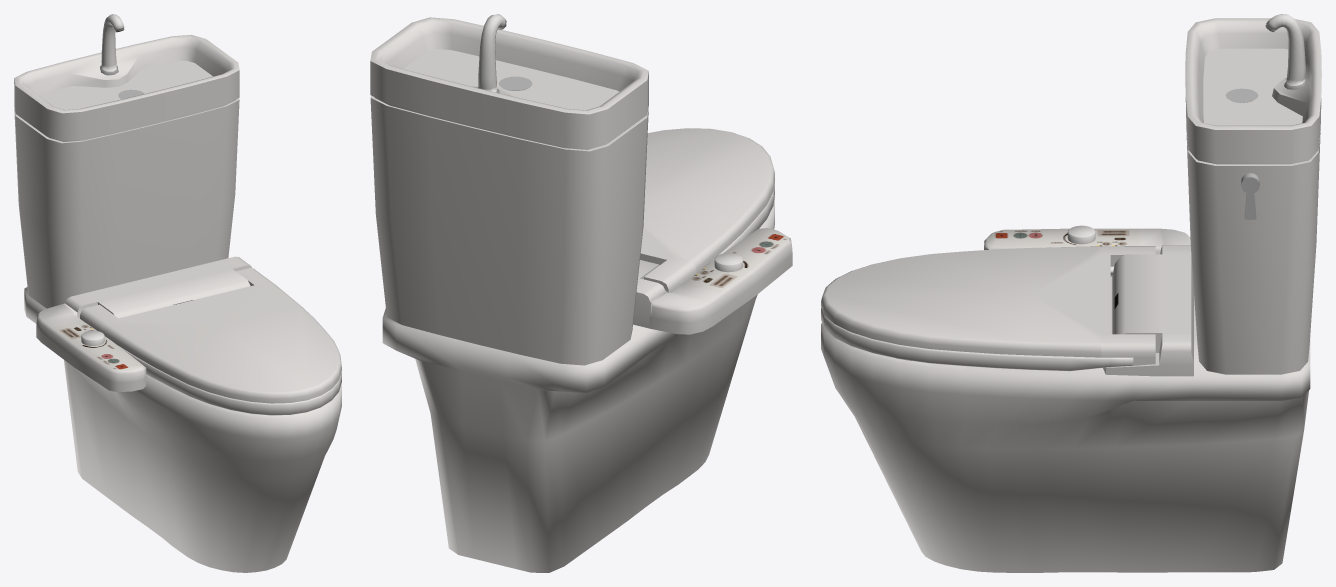
Rendered from sweethome3d-scopia-japanese-toilet-unit.glb.
The picture shows the model from 3 angles, left to right: view 1: azimuth 30°, elevation 25°; view 2: azimuth 150°, elevation 25°; view 3: azimuth 270°, elevation 25°; orthographic projection. The views are drawn at different scales.
Parts seen in each view (by area): view 1: WaterContainer, Seat, sweethome3d_opening_on_hinge_1_Cover, BaseControlCommand, ArmControlCommand, sweethome3d_opening_on_hinge_2_SeatProtection, Tap; view 2: WaterContainer, Seat, sweethome3d_opening_on_hinge_1_Cover, ArmControlCommand, Tap, BaseControlCommand, sweethome3d_opening_on_hinge_2_SeatProtection; view 3: Seat, WaterContainer, sweethome3d_opening_on_hinge_1_Cover, BaseControlCommand, sweethome3d_opening_on_hinge_2_SeatProtection, ArmControlCommand, Tap.
Boxes of the visible parts, x1,y1,x2,y2 form: WaterContainer: (14,34,239,308); Seat: (24,287,341,572); sweethome3d_opening_on_hinge_1_Cover: (80,268,341,403); BaseControlCommand: (65,256,251,318); ArmControlCommand: (36,303,146,392); sweethome3d_opening_on_hinge_2_SeatProtection: (117,345,341,415); Tap: (100,14,124,75); WaterContainer: (370,17,648,365); Seat: (382,196,774,572); sweethome3d_opening_on_hinge_1_Cover: (640,128,774,292); ArmControlCommand: (649,228,792,334); Tap: (478,14,506,92); BaseControlCommand: (633,260,665,328); sweethome3d_opening_on_hinge_2_SeatProtection: (711,181,774,261); Seat: (821,296,1310,572); WaterContainer: (1185,18,1321,374); sweethome3d_opening_on_hinge_1_Cover: (821,246,1155,365); BaseControlCommand: (1103,245,1193,376); sweethome3d_opening_on_hinge_2_SeatProtection: (821,266,1133,371); ArmControlCommand: (984,228,1190,254); Tap: (1265,14,1306,89).
Size of the model in its own units: 52.73 by 98 by 83.61.
17 materials, 1 textured.
